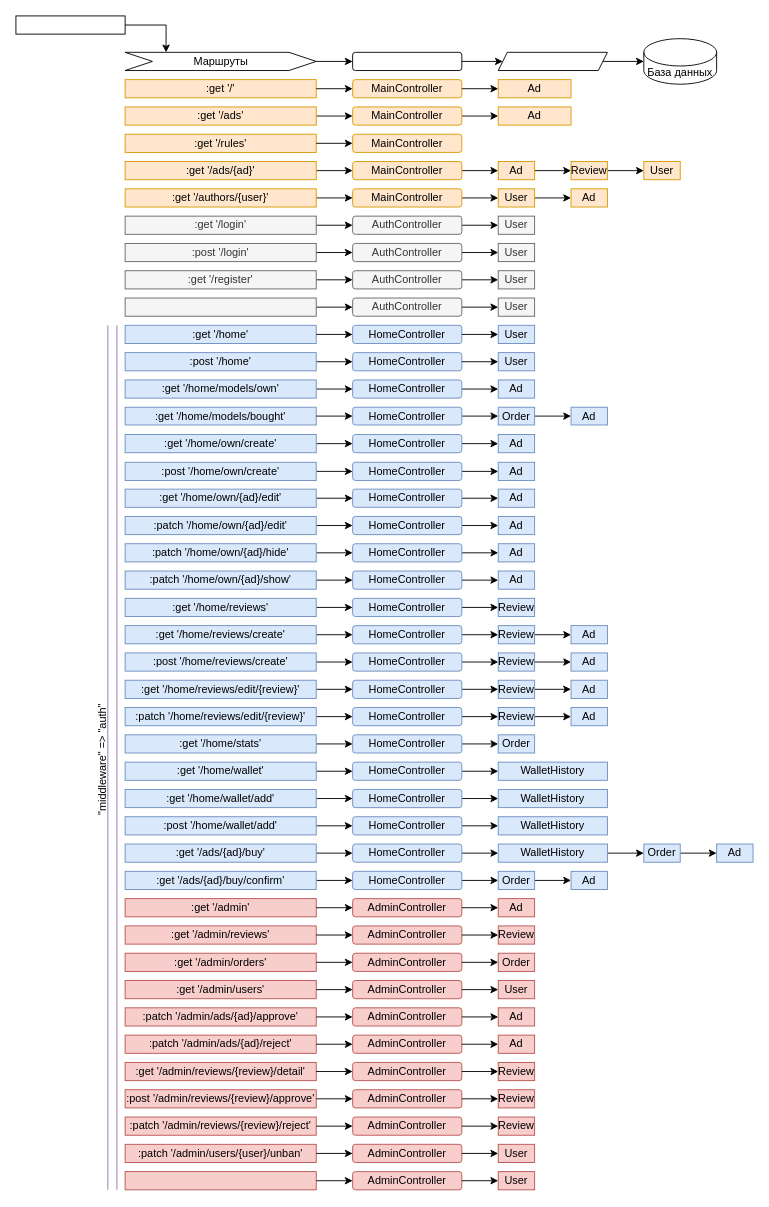
This 769x1207 diagram has some shape labels left out. The centre of each missing label's shape, as x and y in pixels:
:patch '/admin/users/{user}/ban': the point at 220,1180
:post '/register': the point at 220,306
http://models: the point at 70,24
Контроллеры: the point at 407,61
Модели: the point at 552,61
